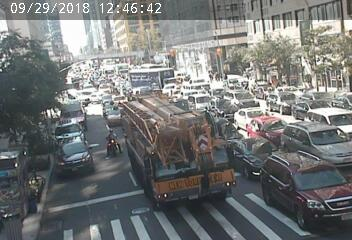car: (134, 104, 204, 184), (280, 162, 320, 204), (58, 147, 95, 174), (125, 62, 168, 85), (258, 120, 289, 141), (237, 142, 267, 158), (307, 126, 333, 143), (60, 125, 84, 142), (67, 103, 89, 118), (237, 109, 262, 121), (229, 89, 250, 102), (316, 110, 337, 123), (278, 94, 293, 109), (195, 95, 214, 104), (98, 68, 114, 78), (189, 79, 214, 85), (86, 91, 104, 98), (184, 88, 201, 95), (300, 100, 315, 105), (101, 105, 110, 113), (115, 97, 124, 99)
